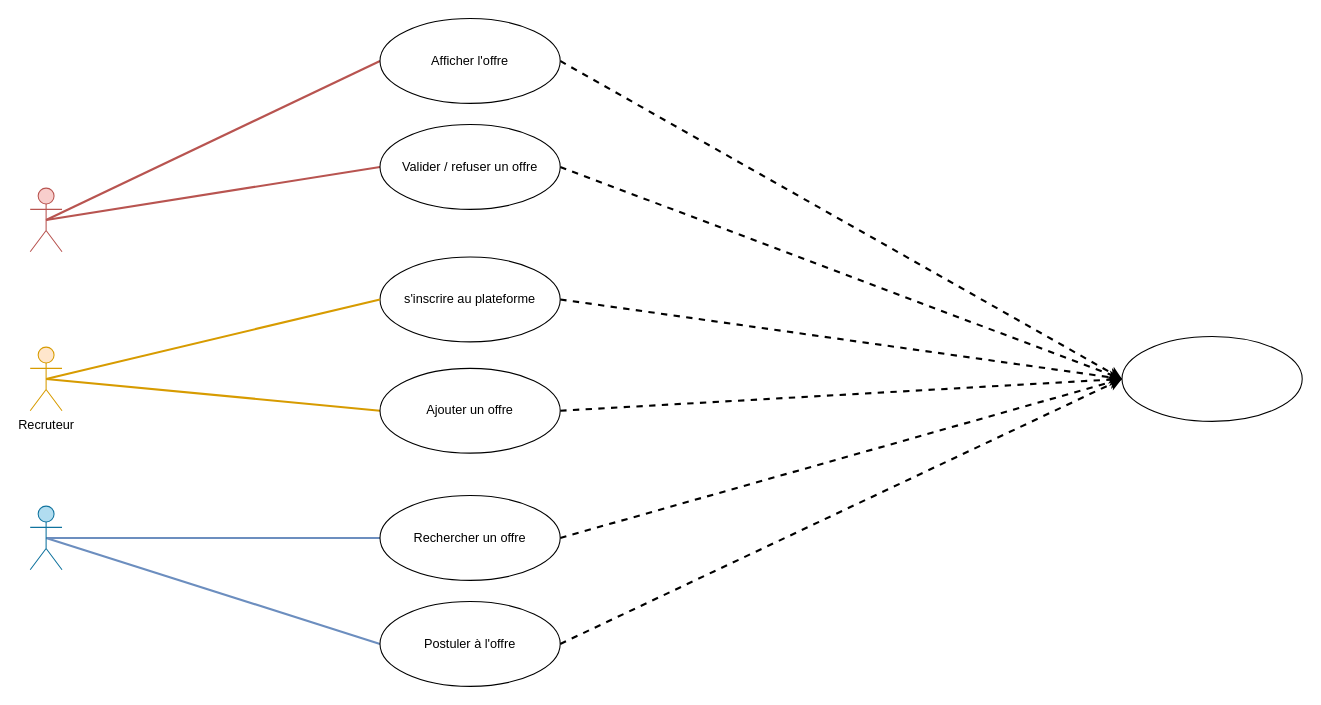
Image size: 1321x705. Some labels were removed from this diagram. The shapes that lost their labels are listed below. From the top down, each one's box as (x1, y1, x2, y2) in pixels, then its label:
(29, 187, 62, 252): Agent
(1121, 335, 1302, 421): Connexion au compte
(29, 505, 62, 570): Condidat
